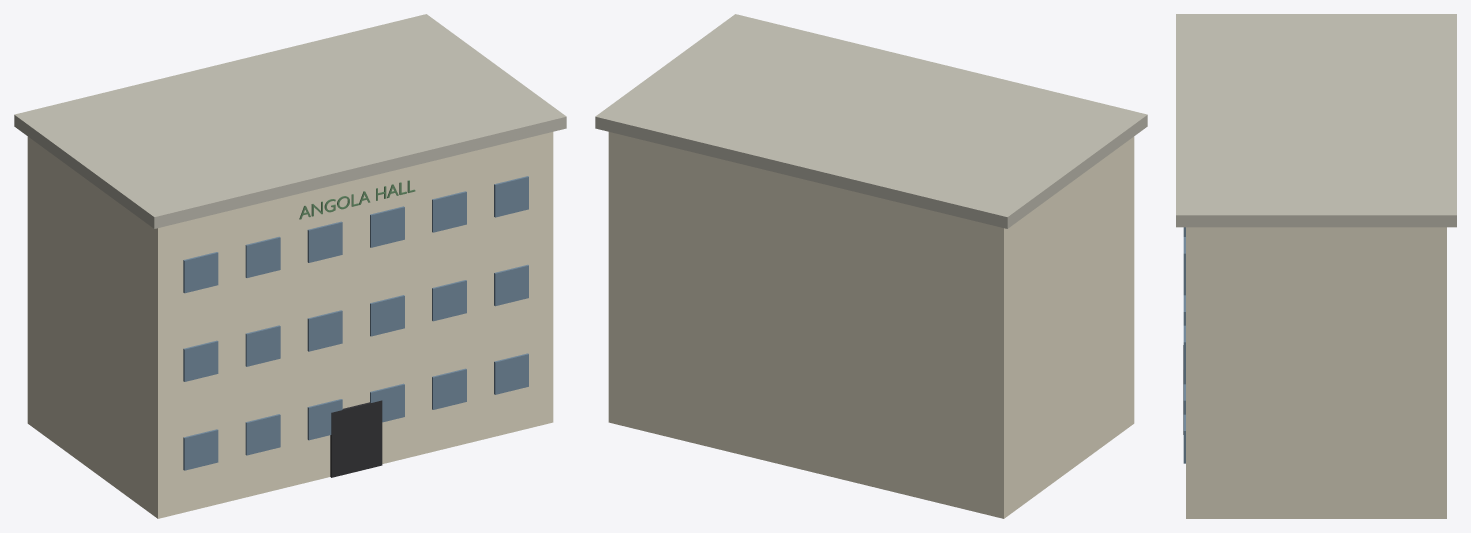
File: EN_HostelBlock.glb
3 views of the same model, side by side, from view 1: azimuth 30°, elevation 25°; view 2: azimuth 150°, elevation 25°; view 3: azimuth 270°, elevation 25° (orthographic).
Parts seen in each view (by area): view 1: EN_HostelBlock; view 2: EN_HostelBlock; view 3: EN_HostelBlock.
Part boxes in pixels (x1,y1,x2,y2): EN_HostelBlock: [14, 14, 566, 518]; EN_HostelBlock: [595, 14, 1147, 518]; EN_HostelBlock: [1176, 14, 1456, 518].
Bounding box in the file's own units: 14.6 × 10.4 × 8.6.
